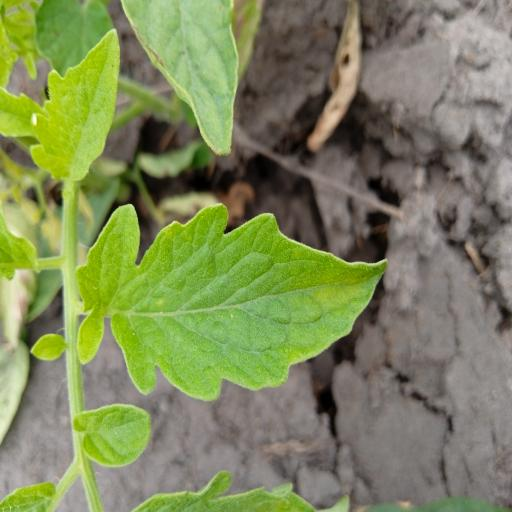Tomato_healthy: (74, 194, 391, 406)
